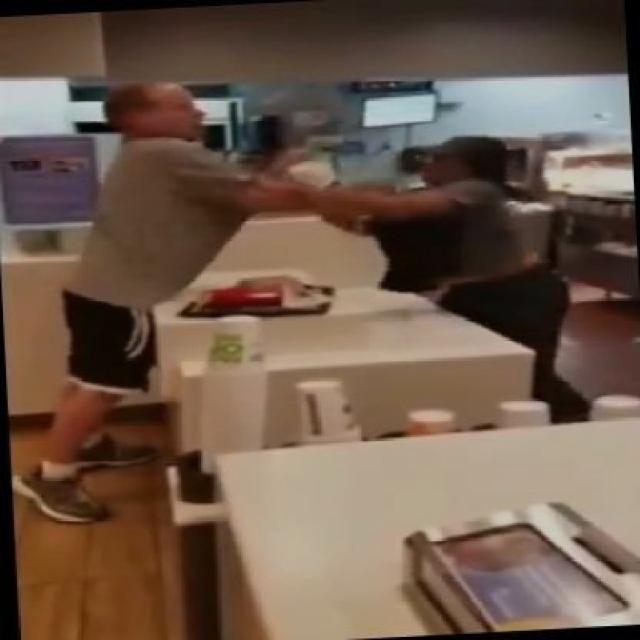fight: (7, 77, 593, 522)
